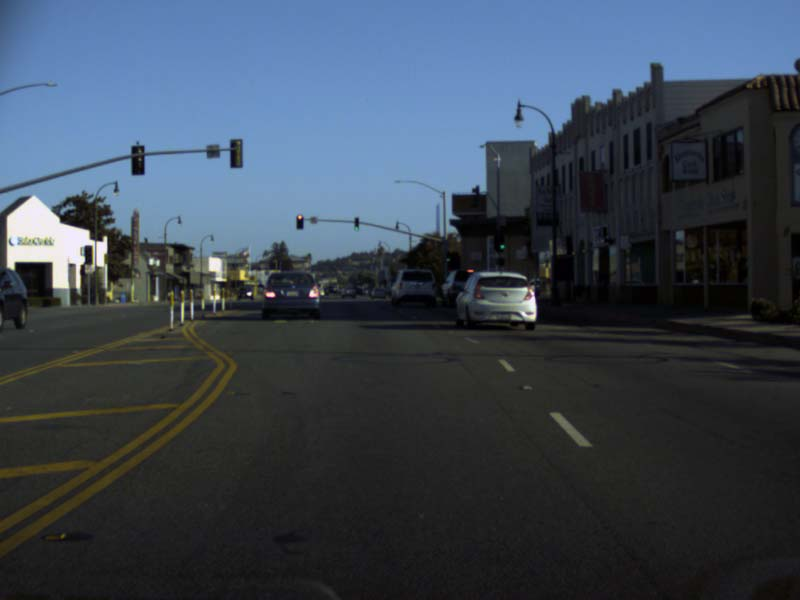Green: (498, 224, 506, 251), (353, 217, 359, 230), (445, 250, 451, 262)
Red: (296, 214, 304, 230)
